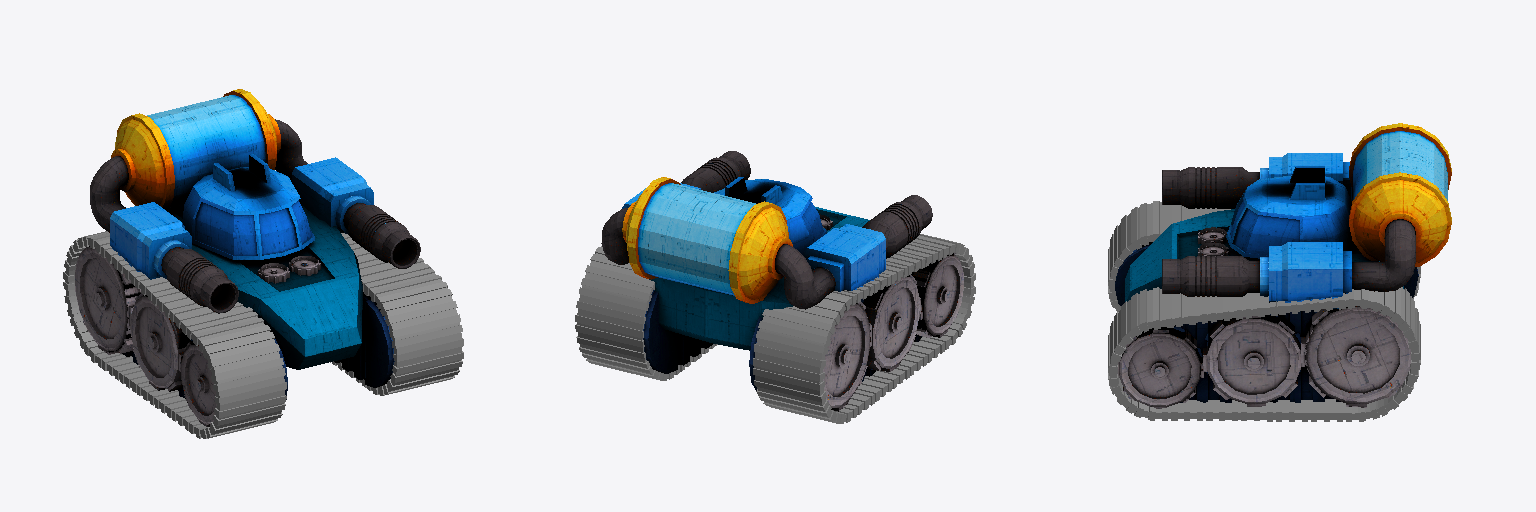
3 renders of one model, left to right at view 1: azimuth 30°, elevation 25°; view 2: azimuth 150°, elevation 25°; view 3: azimuth 270°, elevation 25°, orthographic.
Visible parts, largest first — view 1: Object001, Box042, Object004, Object003, Object002; view 2: Object001, Box042, Object003, Object004, Object002; view 3: Object001, Box042, Object004, Object003, Object002.
Part boxes in pixels (x1,y1,x2,y2): Object001: (90,89,420,399); Box042: (63,231,463,438); Object004: (75,246,140,354); Object003: (130,293,190,391); Object002: (180,341,216,426); Object001: (602,151,932,390); Box042: (575,234,975,423); Object003: (863,275,920,371); Object004: (823,302,871,411); Object002: (913,253,963,337); Object001: (1115,123,1451,402); Box042: (1108,201,1420,421); Object004: (1301,306,1410,407); Object003: (1203,315,1304,406); Object002: (1117,327,1203,408).
Bounding box in the file's own units: 121 × 100 × 147.
Materials: 2 (1 with a texture image).